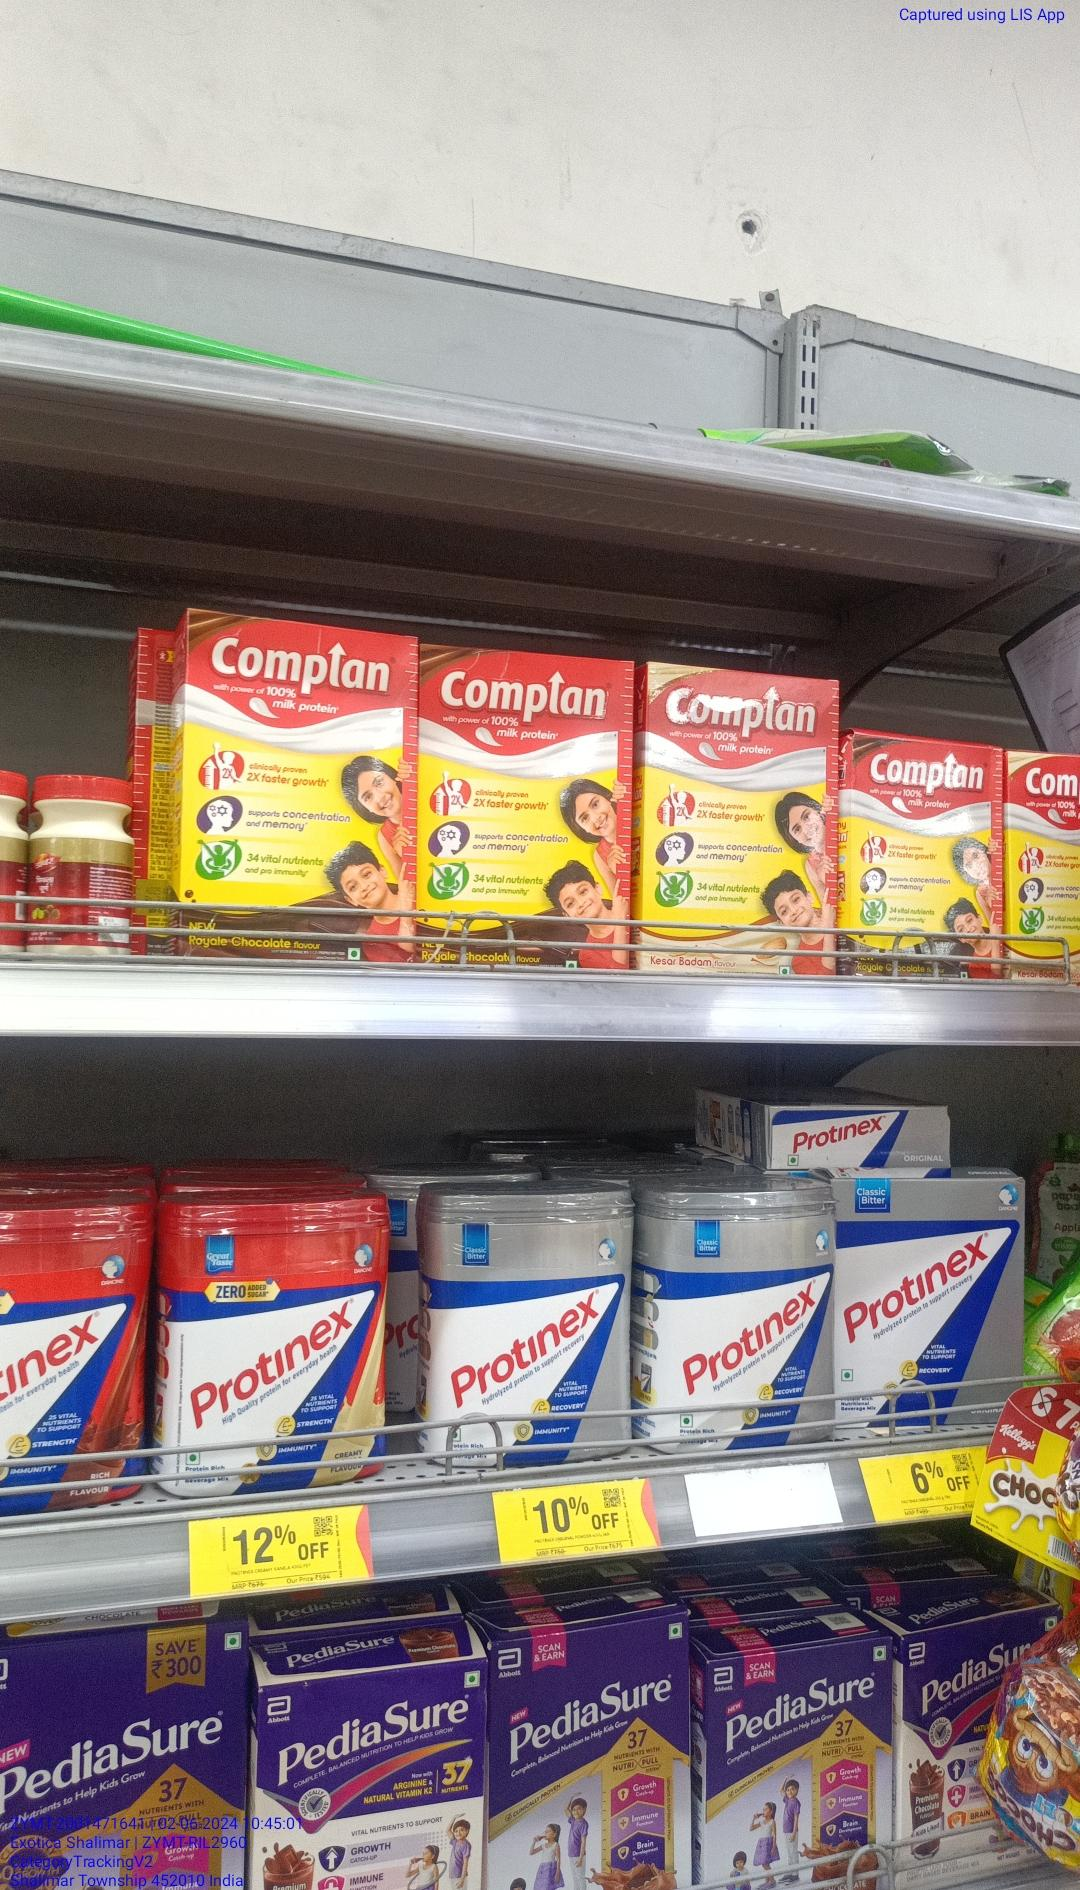PEDIASURE_CHOCOLATE_500_G_PACK: (485, 1638, 698, 1890), (709, 1658, 896, 1890), (907, 1628, 1044, 1864)
PROTINEX_ORIGINAL_400_G_JAR: (441, 1185, 636, 1460), (658, 1201, 835, 1455)
PROTINEX_VANILLA_400_G_JAR: (178, 1199, 391, 1502)
